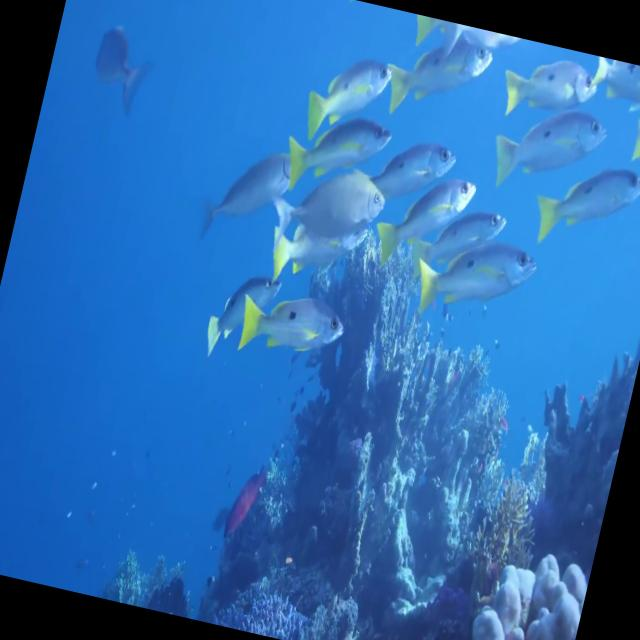fish: (508, 110, 640, 266), (401, 215, 548, 352), (358, 155, 487, 292), (269, 82, 394, 206), (190, 130, 306, 258), (376, 22, 501, 140), (480, 72, 608, 180), (264, 146, 396, 250), (288, 29, 396, 140), (494, 36, 608, 134), (400, 184, 512, 282), (78, 15, 167, 130), (227, 283, 344, 367), (366, 116, 466, 209), (195, 262, 282, 366), (258, 209, 364, 293), (587, 55, 640, 110), (620, 74, 640, 167)
